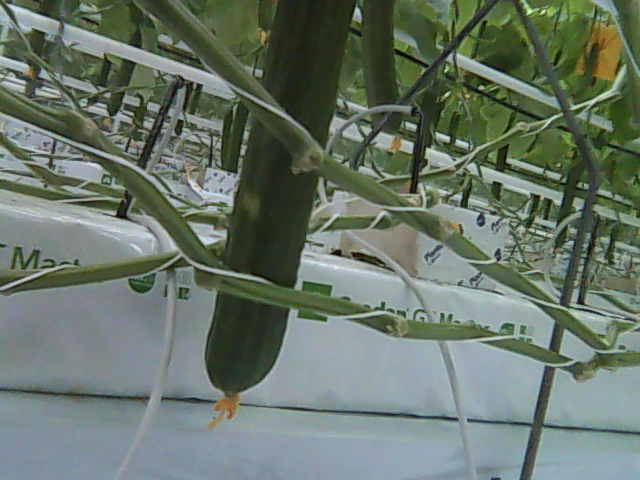concombre: (200, 1, 356, 432)
